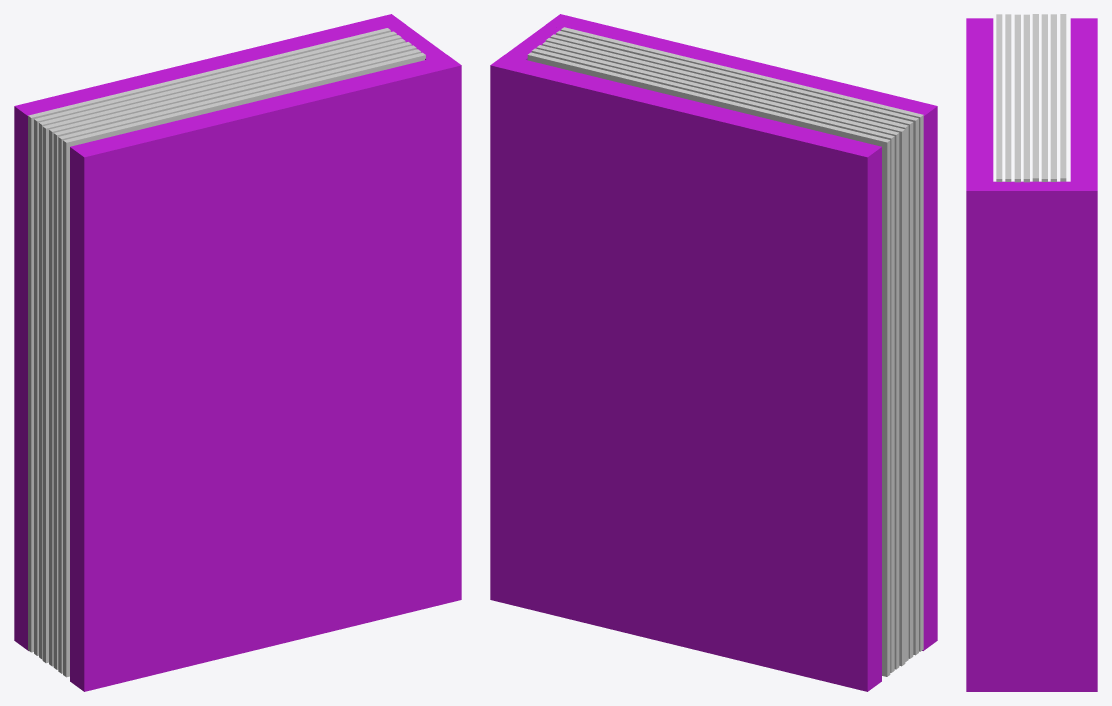
The model's file is book4.fbx.
3 renders of one model, left to right at view 1: azimuth 30°, elevation 25°; view 2: azimuth 150°, elevation 25°; view 3: azimuth 270°, elevation 25°, orthographic. The views are drawn at different scales.
Parts seen in each view (by area): view 1: Cube.001; view 2: Cube.001; view 3: Cube.001.
Part boxes in pixels (x1,y1,x2,y2): Cube.001: (14, 14, 461, 691); Cube.001: (490, 14, 937, 691); Cube.001: (966, 14, 1097, 691).
Bounding box in the file's own units: 766 × 1036 × 245.
